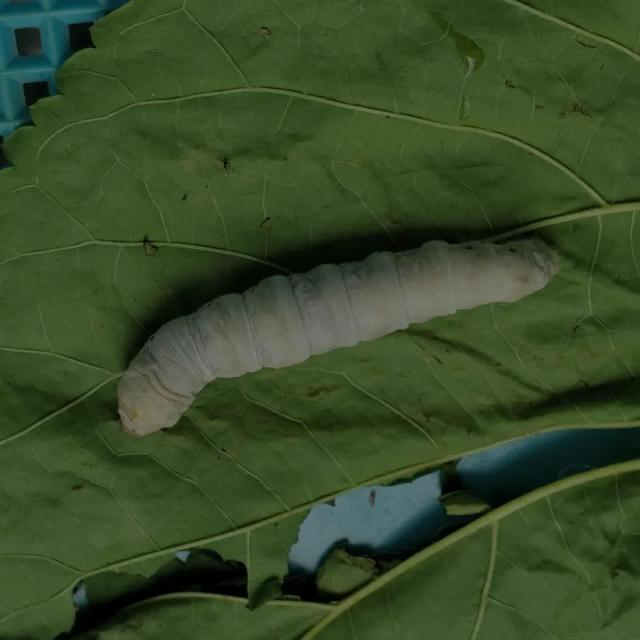Grasserie: (109, 226, 564, 446)
